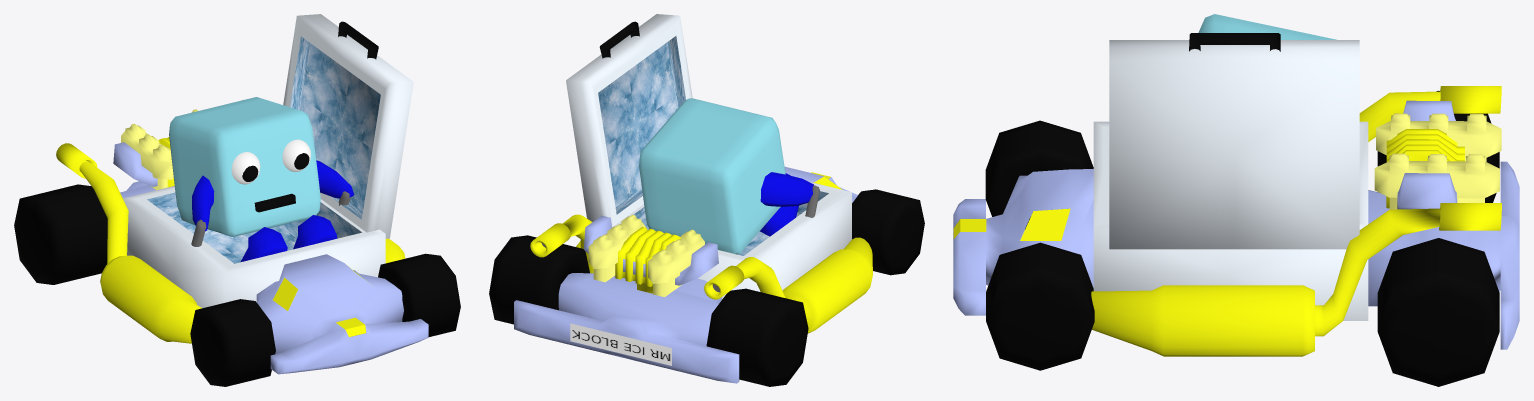
Rendered from kart.glb.
3 views of the same model, side by side, from view 1: azimuth 30°, elevation 25°; view 2: azimuth 150°, elevation 25°; view 3: azimuth 270°, elevation 25° (orthographic). The views are drawn at different scales.
Parts seen in each view (by area): view 1: body_5, body_0, body_8, body_4, body_6, wheel-rear-left, wheel-front-left, wheel-front-right, body_1, body_7, body_2, body_3 (+1 smaller); view 2: body_0, body_8, body_5, body_6, body_4, wheel-rear-left, wheel-rear-right, wheel-front-left, body_7, body_1, body_9, body_2; view 3: body_5, body_6, body_8, wheel-rear-right, wheel-front-right, body_7, wheel-front-left, body_0, body_2, wheel-rear-left.
Part boxes in pixels (left/top/right/bottom): body_5: left=123, top=14, right=413, bottom=310; body_0: left=169, top=97, right=320, bottom=236; body_8: left=113, top=142, right=428, bottom=374; body_4: left=147, top=36, right=380, bottom=263; body_6: left=56, top=100, right=405, bottom=343; wheel-rear-left: left=14, top=184, right=107, bottom=284; wheel-front-left: left=190, top=299, right=275, bottom=386; wheel-front-right: left=378, top=253, right=460, bottom=336; body_1: left=192, top=160, right=354, bottom=262; body_7: left=121, top=109, right=198, bottom=190; body_2: left=242, top=21, right=378, bottom=212; body_3: left=231, top=139, right=310, bottom=184; body_0: left=639, top=98, right=785, bottom=254; body_8: left=514, top=166, right=857, bottom=383; body_5: left=566, top=14, right=851, bottom=298; body_6: left=530, top=172, right=872, bottom=333; body_4: left=598, top=36, right=828, bottom=255; wheel-rear-left: left=706, top=288, right=808, bottom=386; wheel-rear-right: left=489, top=235, right=589, bottom=324; wheel-front-left: left=852, top=189, right=924, bottom=275; body_7: left=588, top=214, right=704, bottom=297; body_1: left=760, top=172, right=813, bottom=236; body_9: left=570, top=323, right=671, bottom=365; body_2: left=599, top=21, right=639, bottom=58; body_5: left=1093, top=40, right=1368, bottom=320; body_6: left=953, top=86, right=1501, bottom=356; body_8: left=953, top=100, right=1519, bottom=349; wheel-rear-right: left=1377, top=238, right=1499, bottom=386; wheel-front-right: left=986, top=242, right=1094, bottom=370; body_7: left=1374, top=113, right=1501, bottom=209; wheel-front-left: left=985, top=120, right=1093, bottom=229; body_0: left=1198, top=14, right=1336, bottom=39; body_2: left=1189, top=33, right=1280, bottom=51; wheel-rear-left: left=1377, top=90, right=1499, bottom=202.
Size of the model in its own units: 0.9053 by 0.7353 by 1.14.
Materials: 11 (2 with a texture image).
